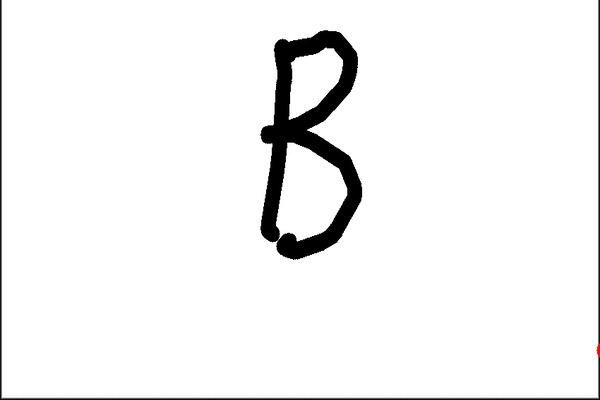B: (247, 18, 370, 267)
